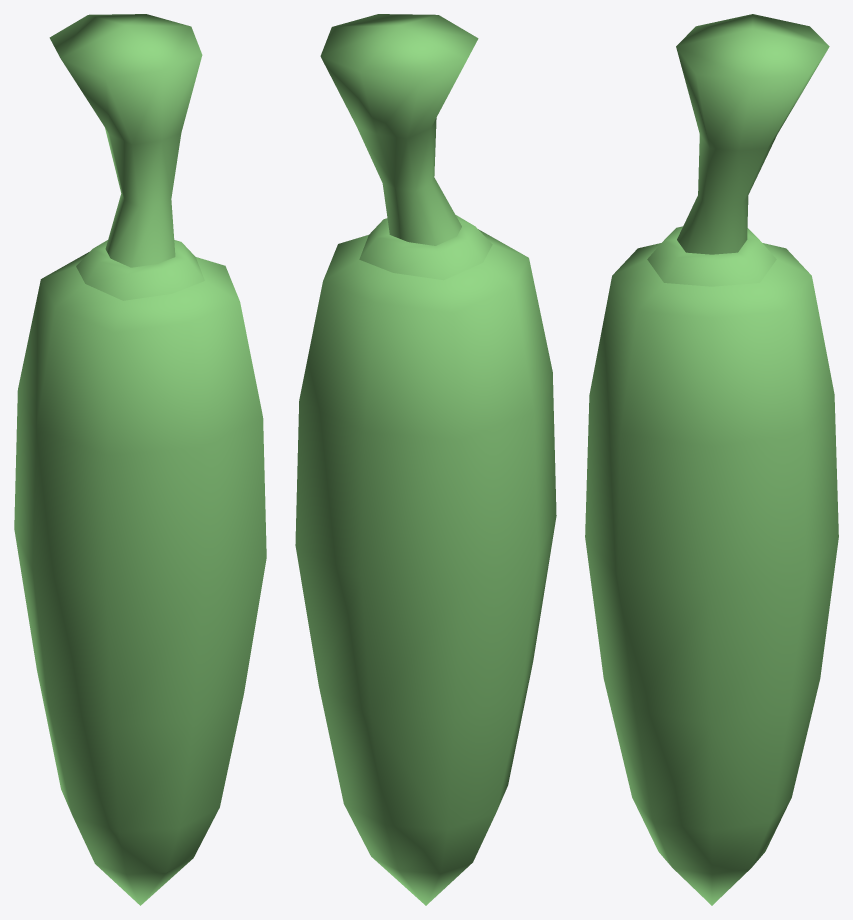
Rendered from Carrot.fbx.
The picture shows the model from 3 angles, left to right: view 1: azimuth 30°, elevation 25°; view 2: azimuth 150°, elevation 25°; view 3: azimuth 270°, elevation 25°; orthographic projection. The views are drawn at different scales.
Visible parts, largest first — view 1: Carrot; view 2: Carrot; view 3: Carrot.
Part boxes in pixels (x1,y1,x2,y2): Carrot: [14, 14, 266, 905]; Carrot: [295, 14, 556, 905]; Carrot: [585, 14, 838, 905].
Size of the model in its own units: 13.76 by 52.62 by 13.76.
